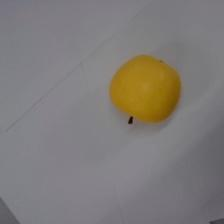yellow: (106, 51, 182, 127)
